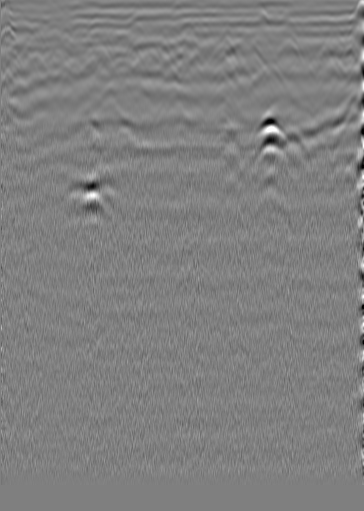가스: (253, 133, 289, 190)
상수: (1, 28, 21, 48)
오수: (294, 31, 314, 51)
우수: (131, 47, 151, 67)
